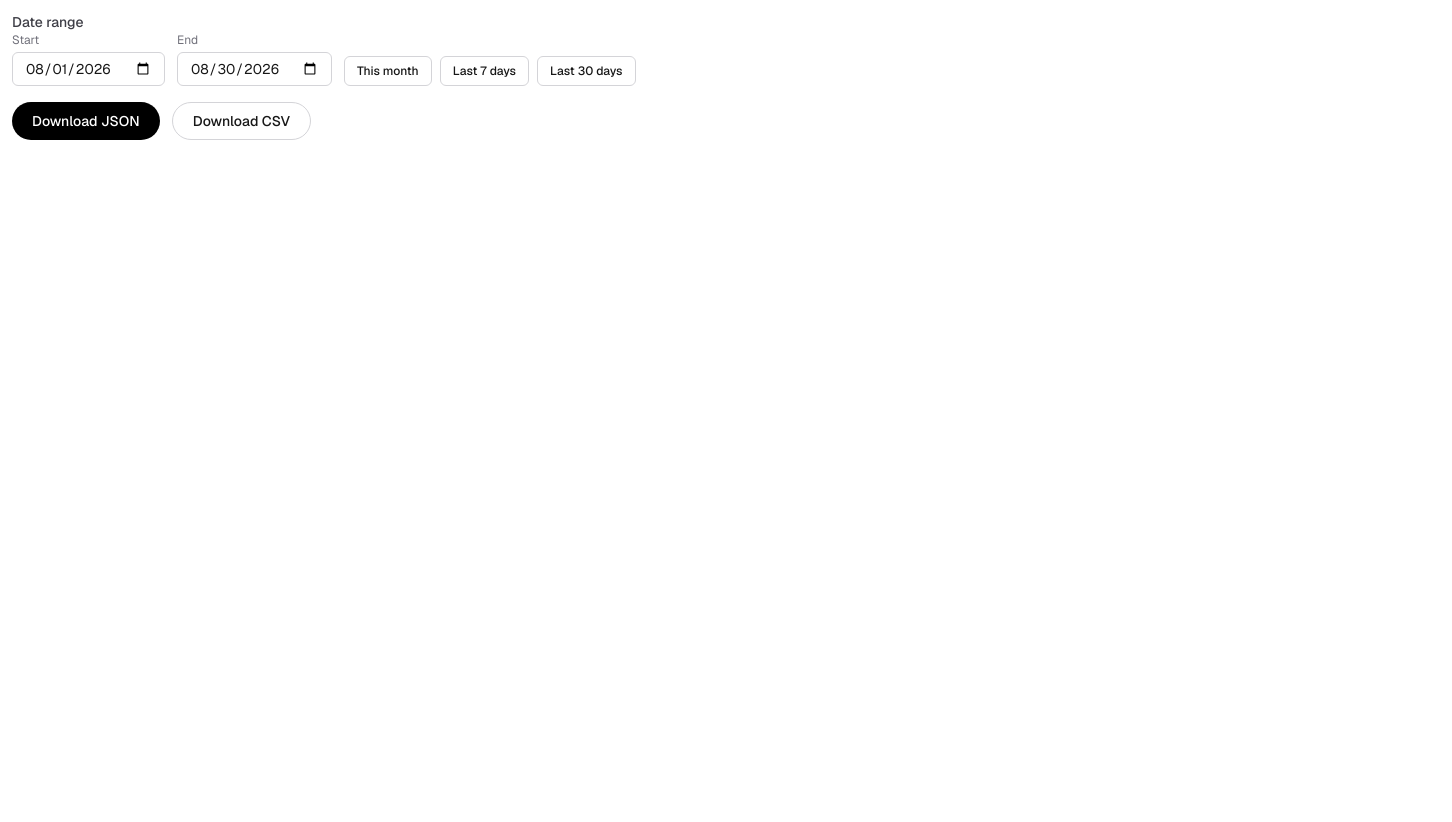
Test: ExportActions › downloads the selected export, uses the response filename, and shows a toast
Click the button "Download CSV" at (241, 121), box x1=172 y1=102 x2=311 y2=140
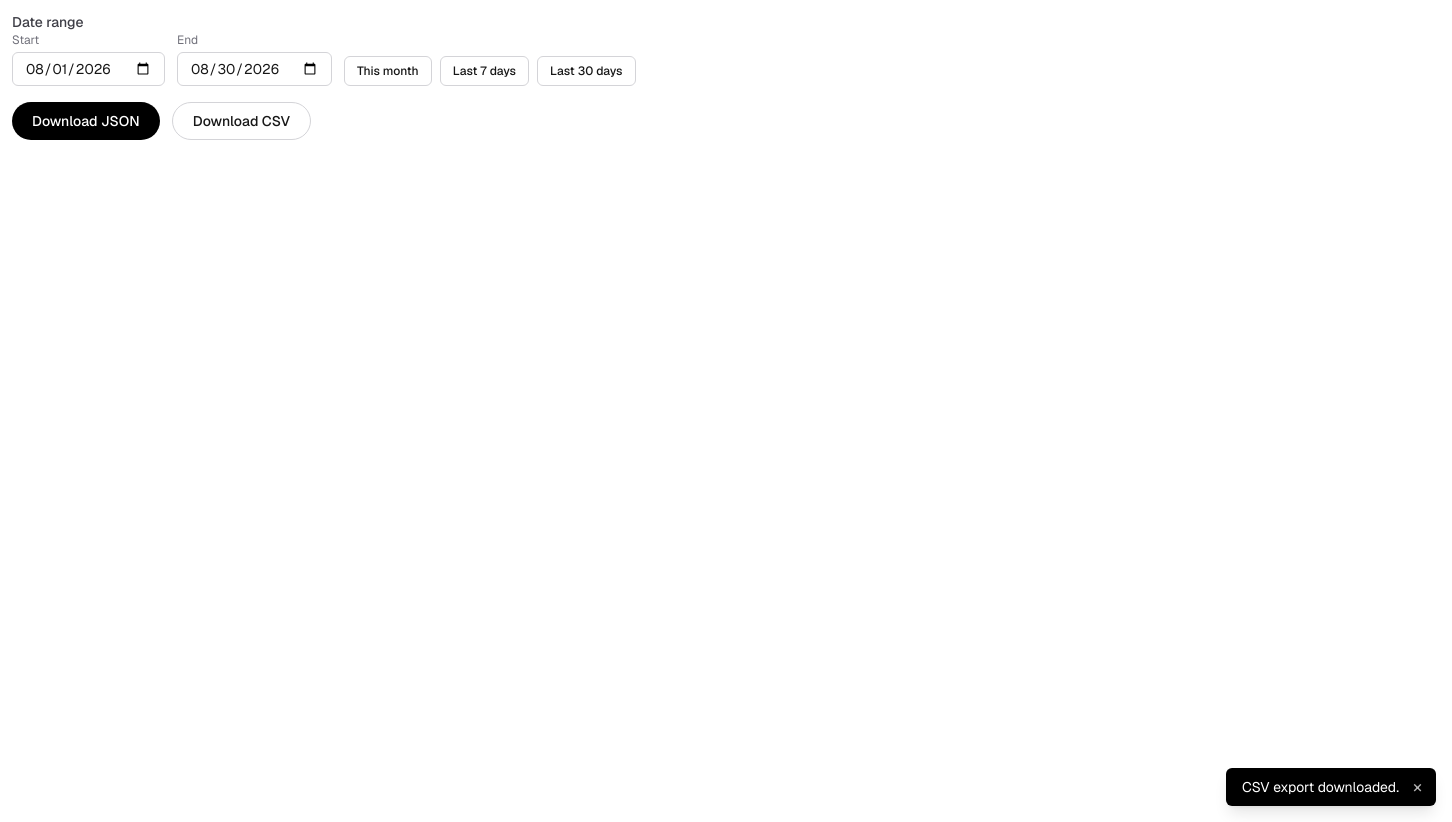
Expected: the text "CSV export downloaded." is shown, x1=1242 y1=777 x2=1399 y2=797
